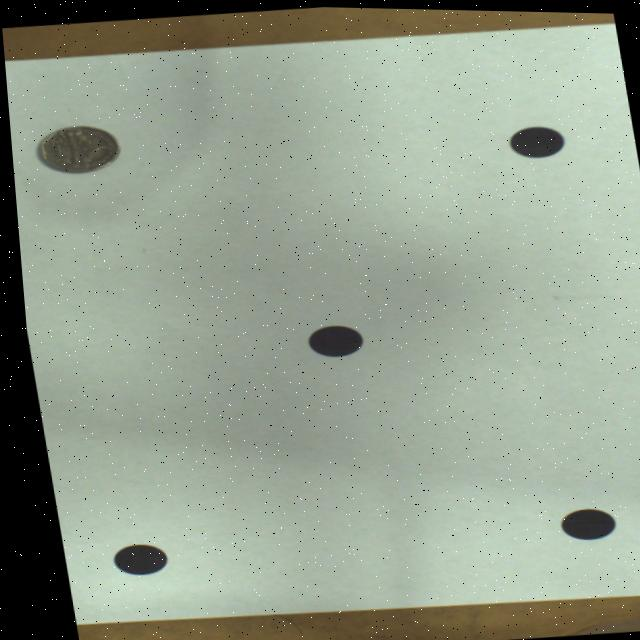space: (506, 122, 562, 154), (302, 323, 357, 354), (104, 542, 158, 573), (552, 505, 605, 535)
tail5bath: (35, 124, 117, 172)
